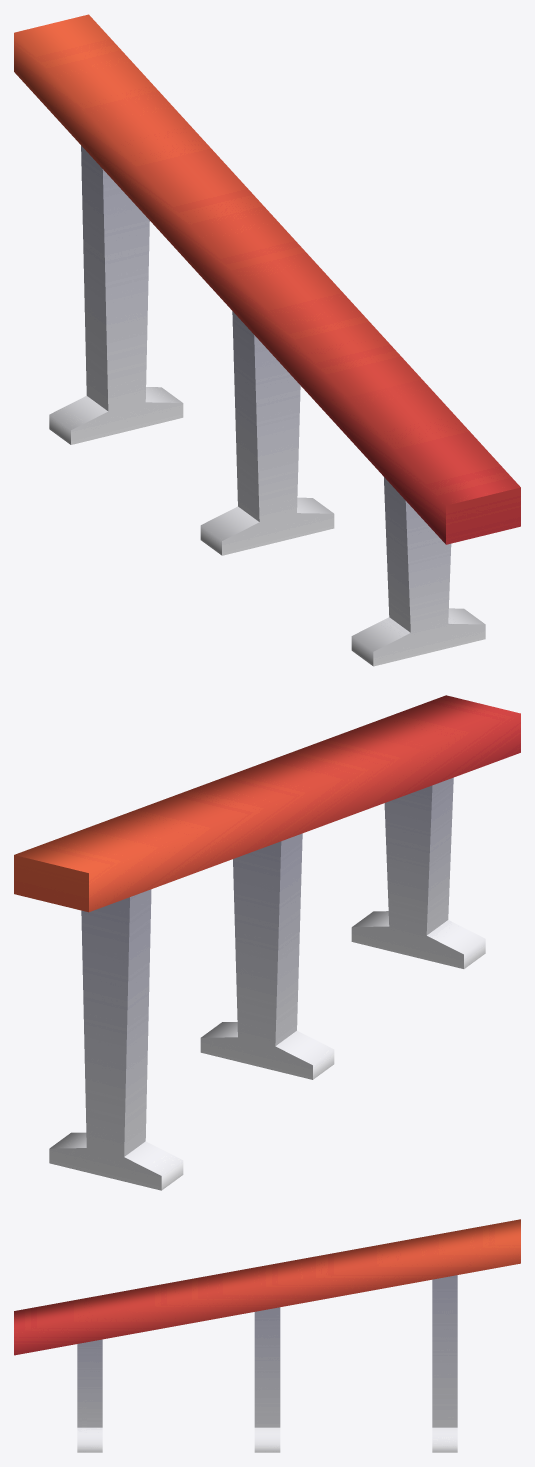
Rendered from rail_slope.glb.
3 renders of one model, top to bottom at view 1: azimuth 30°, elevation 25°; view 2: azimuth 150°, elevation 25°; view 3: azimuth 270°, elevation 25°, orthographic. The views are drawn at different scales.
Parts seen in each view (by area): view 1: rail-slope; view 2: rail-slope; view 3: rail-slope.
Part boxes in pixels (<box>): rail-slope: <box>14,14,520,666</box>; rail-slope: <box>14,695,520,1190</box>; rail-slope: <box>14,1219,520,1452</box>.
Bounding box in the file's own units: 0.15 × 0.45 × 1.
Materials: 1 (1 with a texture image).
